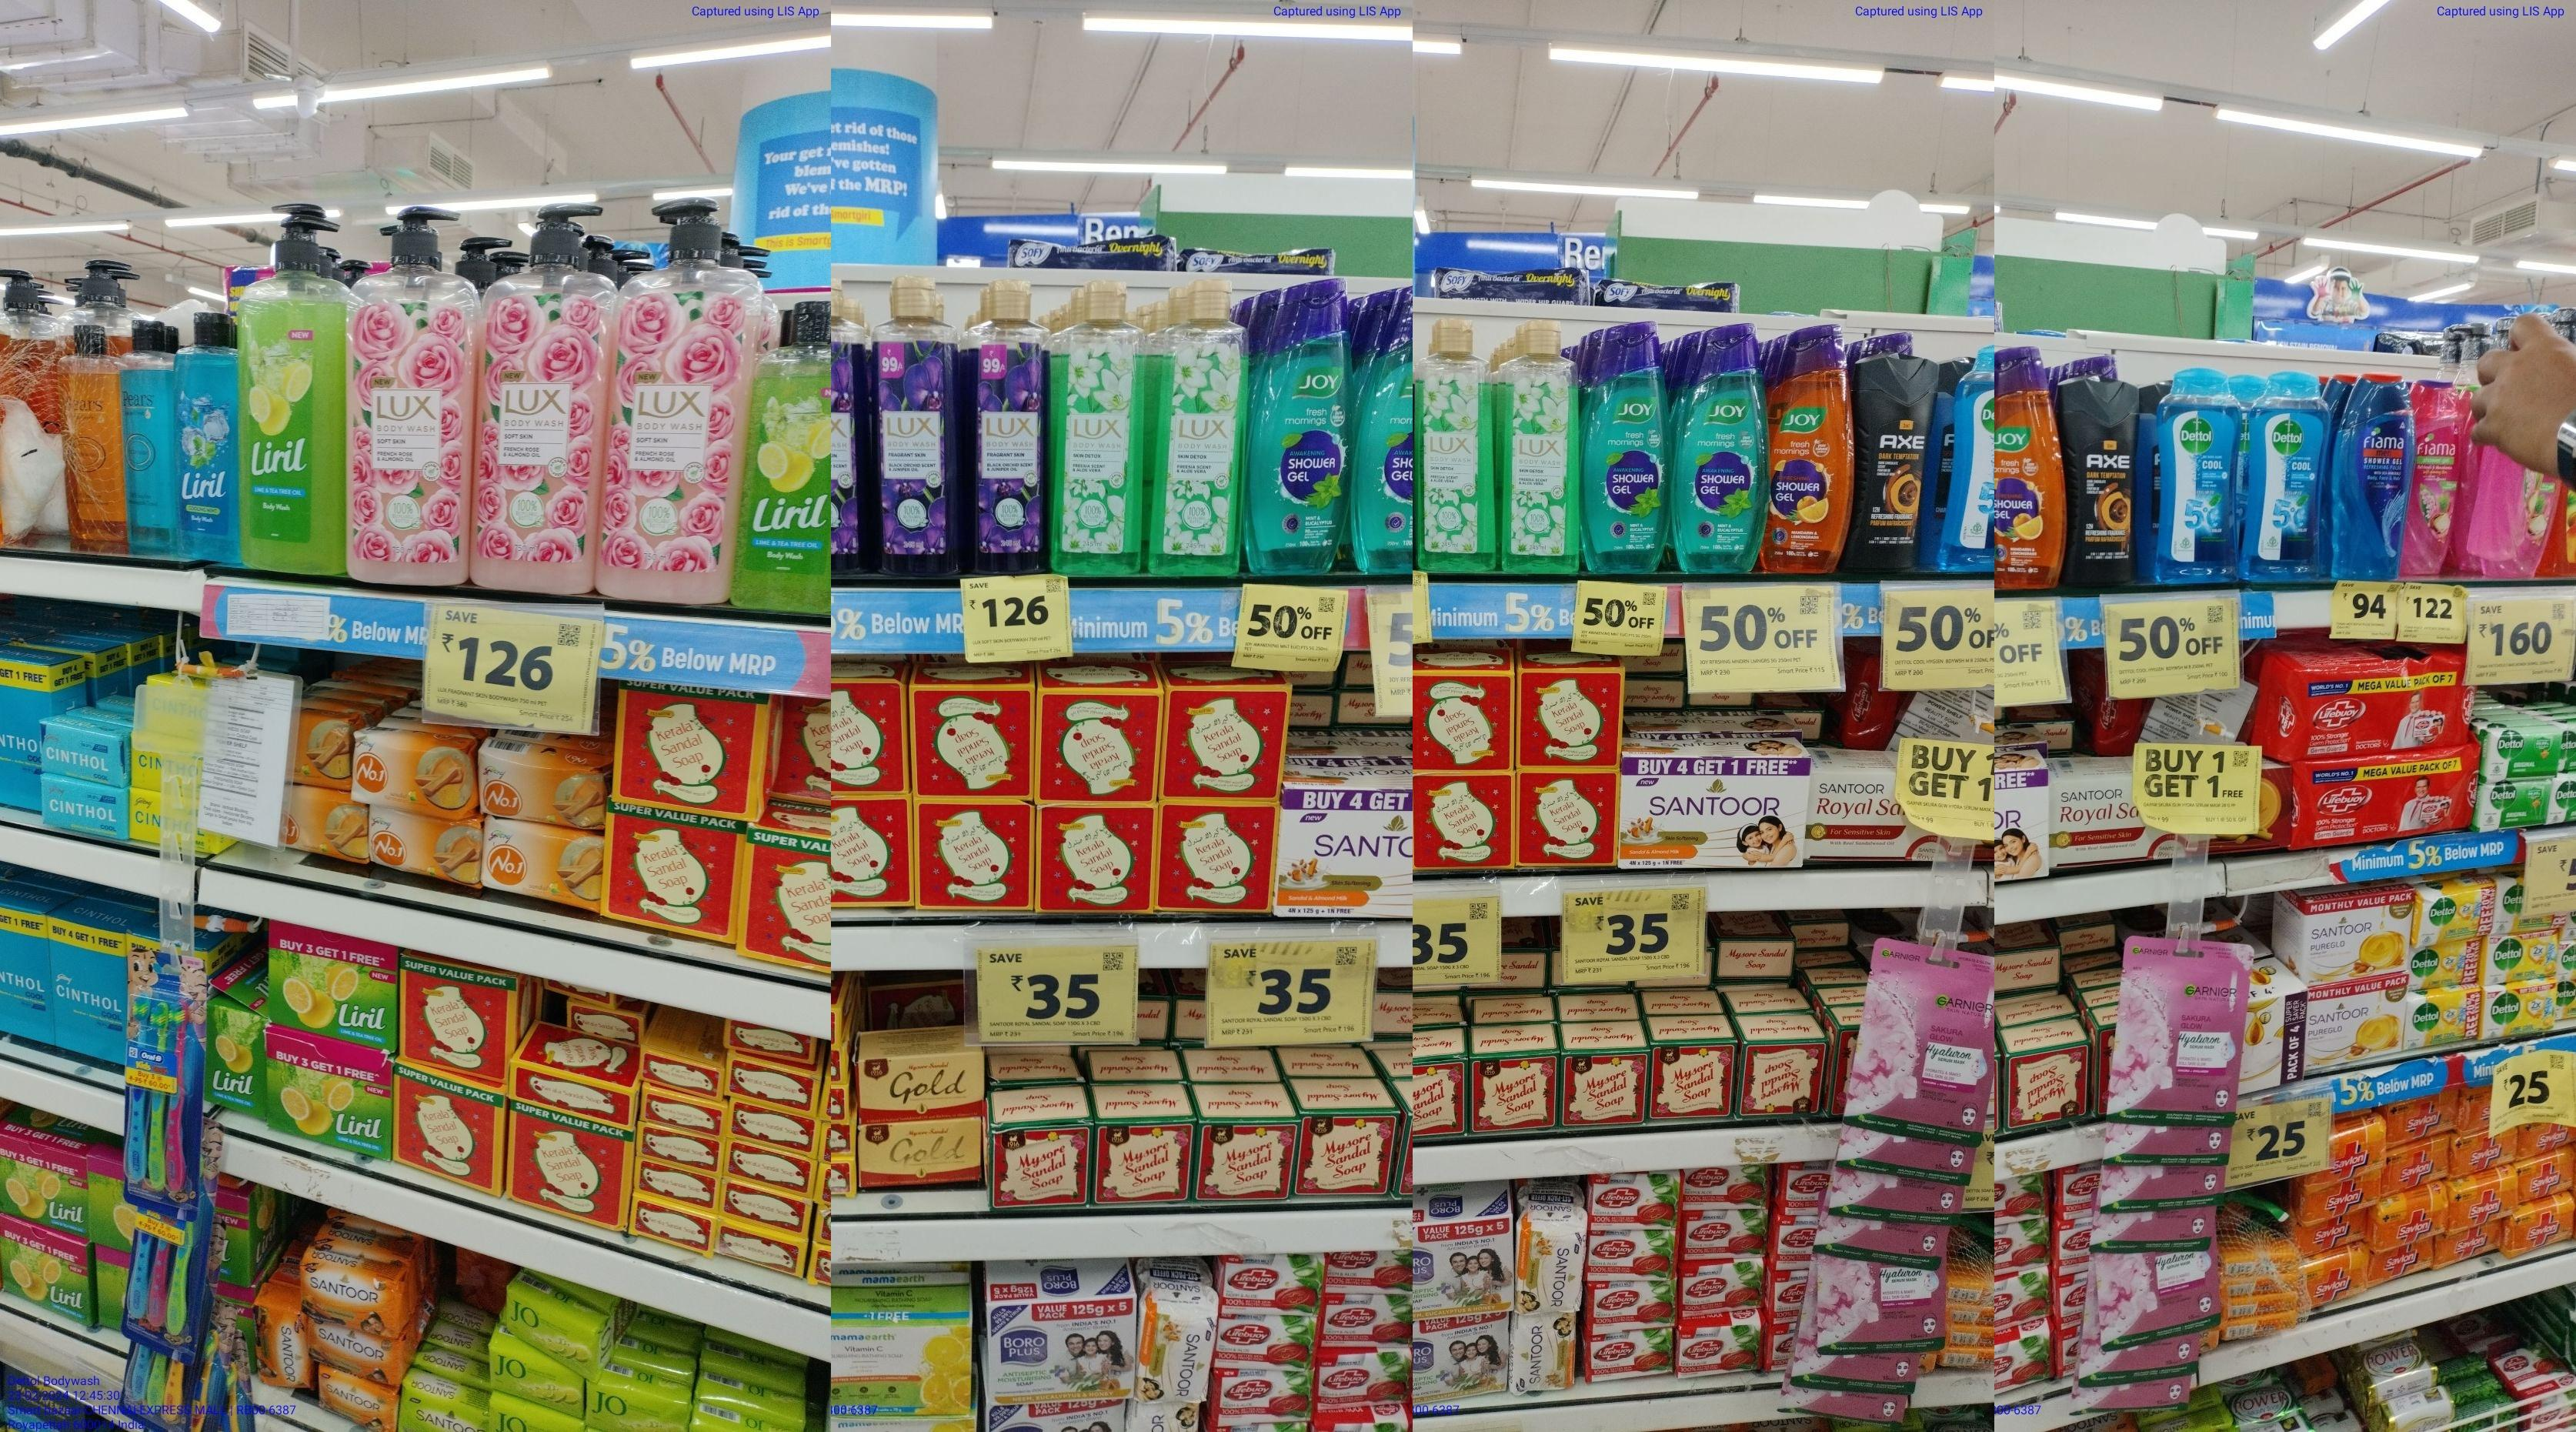Dettol_Bodywash_Cool: (2155, 369, 2245, 587), (2246, 369, 2326, 584), (2414, 377, 2461, 573)
Fiama_Shower_Gel_Patchouli_and_Macadamia_250ML: (2410, 374, 2458, 577)
Joy_Shower_Gel_Mandarin_and_Lemongrass_250ML: (1770, 324, 1850, 570)
Joy_Shower_Gel_Mint_and_Eucalyptus_250ML: (1250, 280, 1349, 571), (1673, 324, 1768, 571), (1587, 324, 1668, 573)
Liril_Cooling_Mint_Body_Wash_250ML: (173, 316, 238, 563)
Lux_Black_Orchid_Scent_and_Juniper_Oil_Body_Wash_245ML: (867, 279, 959, 577), (972, 284, 1044, 577)
Lux_Body_Wash_Skin_Detox_Freesia_Scent_and_Alove_Vera_245ML: (1051, 284, 1146, 577), (1155, 286, 1243, 580), (1419, 321, 1502, 575), (1506, 317, 1580, 577)
Pears_Pure_Glycerin_and_Mint_Extracts_Body_Wash_250ML: (120, 324, 176, 557)
